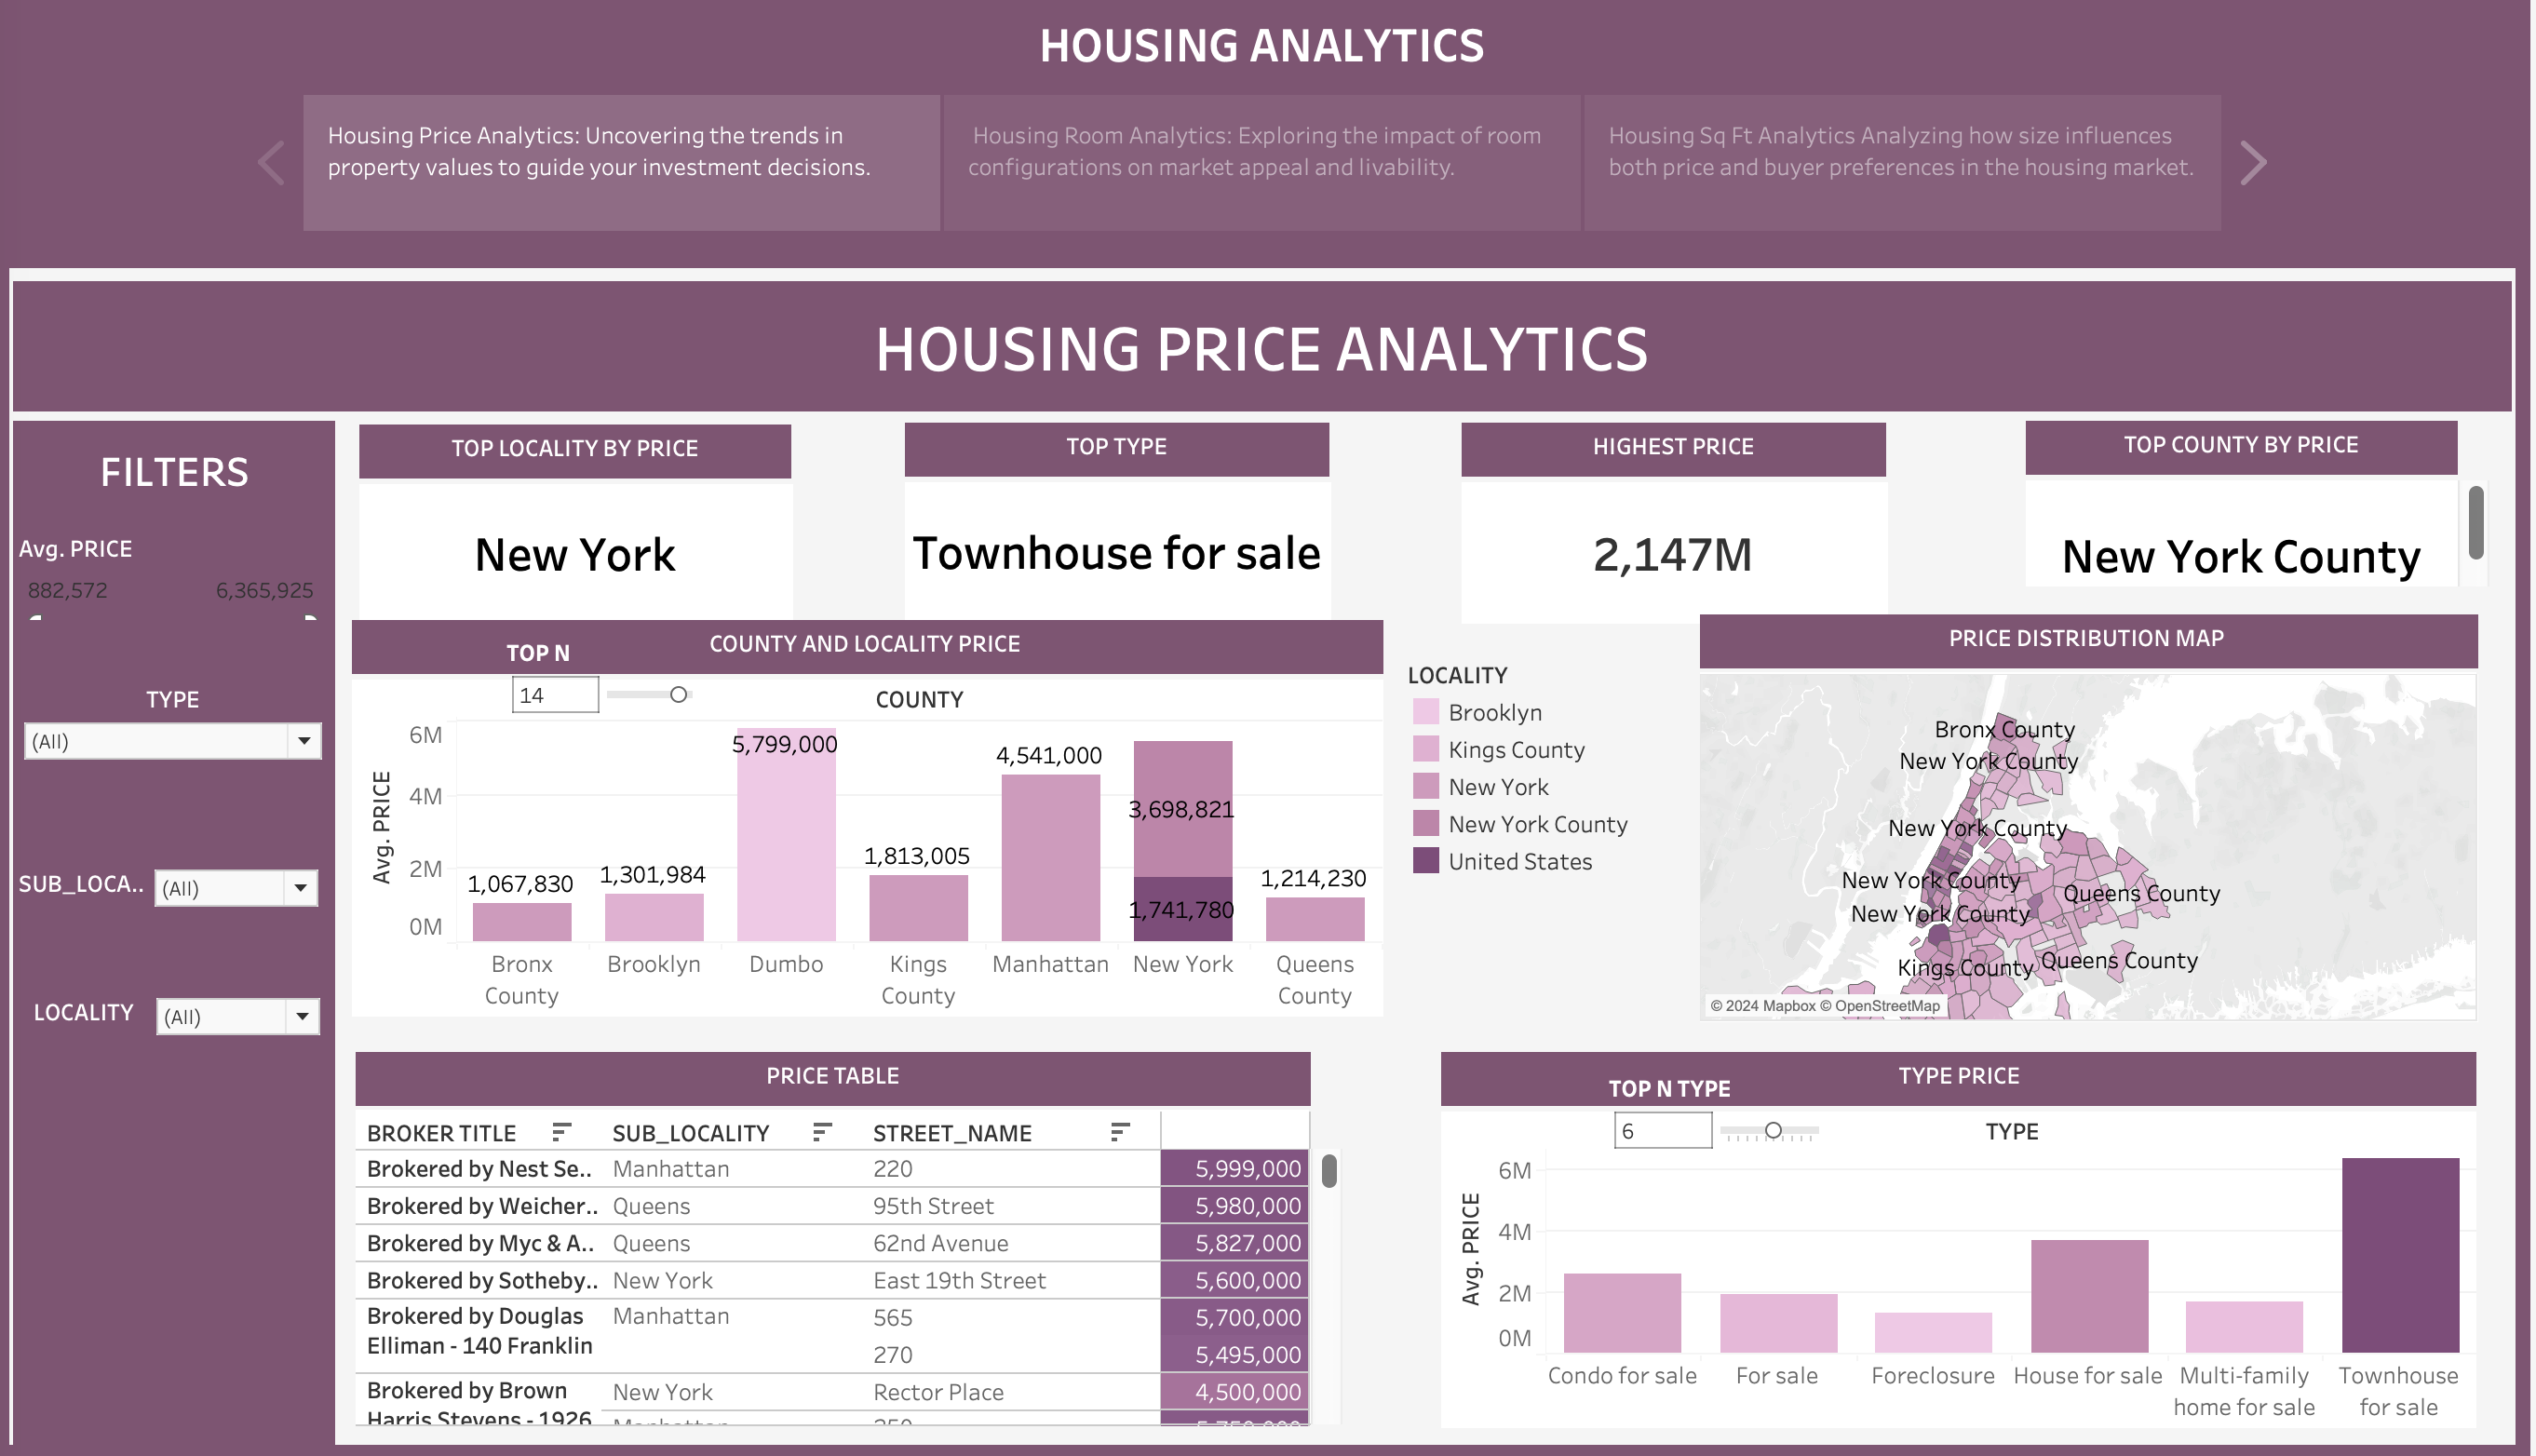

This screenshot's page, from the dashboard's own definition file:
{"tool":"tableau","page":{"name":"HOUSING PRICE ","canvas":[1000,1000],"units":"permille","ordinal":0},"visuals":[{"type":"text","box":[1.5,11.1,996.9,110.7]},{"type":"worksheet","title":"TOP TYPE PRICE","mark":"Automatic","box":[357.4,131.4,272.6,167.1]},{"type":"worksheet","title":"HIGHEST PRICE","mark":"Automatic","box":[579.2,131.4,332.8,336.7]},{"type":"worksheet","title":"TOP LOCALITY BY PRICE","mark":"Automatic","box":[139.5,132.7,259.1,168.4]},{"type":"text","box":[2.3,142.7,127.6,57.8]},{"type":"filter","title":"TYPE PRICE","param":"[federated.0kvu42z1iqwr2r0zqkhqn0pgwafr].[avg:F3:qk]","box":[3.8,225.1,123,75]},{"type":"worksheet","title":"PRICE DISTRIBUTION","mark":"Automatic","box":[674.9,294,310.5,346.9]},{"type":"worksheet","title":"COUNTY LOCALITY PRICE","mark":"Automatic","rows":["F3"],"cols":["F12"],"box":[136.8,298.9,411.2,337]},{"type":"parameter","param":"[Parameters].[Parameter 1]","box":[198.3,313.7,76.9,82.4]},{"type":"legend","title":"COUNTY LOCALITY PRICE","param":"[federated.0kvu42z1iqwr2r0zqkhqn0pgwafr].[none:F11:nk]","box":[558,332.1,107.6,308.7]},{"type":"filter","title":"TYPE PRICE","param":"[federated.0kvu42z1iqwr2r0zqkhqn0pgwafr].[none:F2:nk]","box":[3.8,353,123,105.8]},{"type":"filter","title":"TYPE PRICE","param":"[federated.0kvu42z1iqwr2r0zqkhqn0pgwafr].[none:F13:nk]","box":[2.3,506.8,123,54.1]},{"type":"filter","title":"TYPE PRICE","param":"[federated.0kvu42z1iqwr2r0zqkhqn0pgwafr].[none:F11:nk]","box":[3.1,615,123,54.1]},{"type":"worksheet","title":"PRICE TABLE","mark":"Square","rows":["F1","F13","F14"],"box":[138.4,666.7,424.3,318.6]},{"type":"worksheet","title":"TYPE PRICE","mark":"Automatic","rows":["F3"],"cols":["F2"],"box":[571.1,666.7,413.5,319.8]},{"type":"parameter","param":"[Parameters].[Parameter 2]","box":[638,683.9,86.1,84.9]}]}

Visuals, with their boxes on the dashboard's canvas, which has no fixed pixel size, in thousandths of its width and height (x1, y1, x2, y2). These are canvas units, not pixel positions in the 2536x1456 screenshot, which may show the page scaled, cropped or inside an application window:
text: bbox(2, 11, 998, 122)
"TOP TYPE PRICE" worksheet: bbox(357, 131, 630, 298)
"HIGHEST PRICE" worksheet: bbox(579, 131, 912, 468)
"TOP LOCALITY BY PRICE" worksheet: bbox(140, 133, 399, 301)
text: bbox(2, 143, 130, 200)
"TYPE PRICE" filter: bbox(4, 225, 127, 300)
"PRICE DISTRIBUTION" worksheet: bbox(675, 294, 985, 641)
"COUNTY LOCALITY PRICE" worksheet: bbox(137, 299, 548, 636)
parameter: bbox(198, 314, 275, 396)
"COUNTY LOCALITY PRICE" legend: bbox(558, 332, 666, 641)
"TYPE PRICE" filter: bbox(4, 353, 127, 459)
"TYPE PRICE" filter: bbox(2, 507, 125, 561)
"TYPE PRICE" filter: bbox(3, 615, 126, 669)
"PRICE TABLE" worksheet (Square marks): bbox(138, 667, 563, 985)
"TYPE PRICE" worksheet: bbox(571, 667, 985, 986)
parameter: bbox(638, 684, 724, 769)
